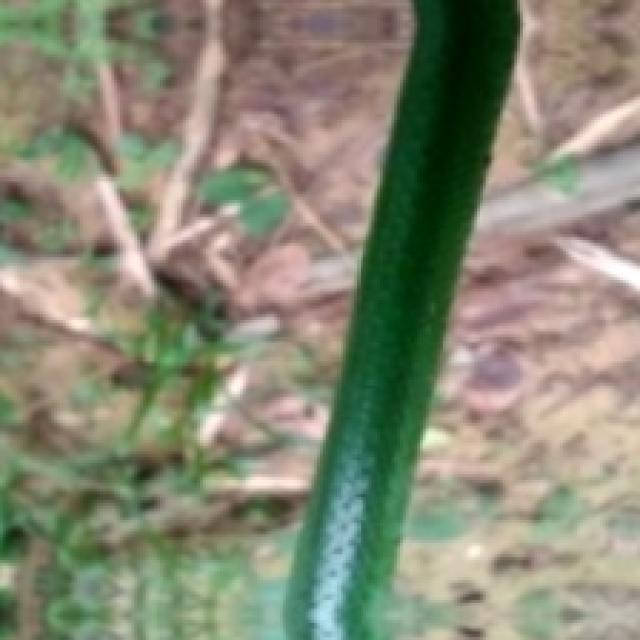red-tailed green ratsnake: (283, 0, 517, 637)
